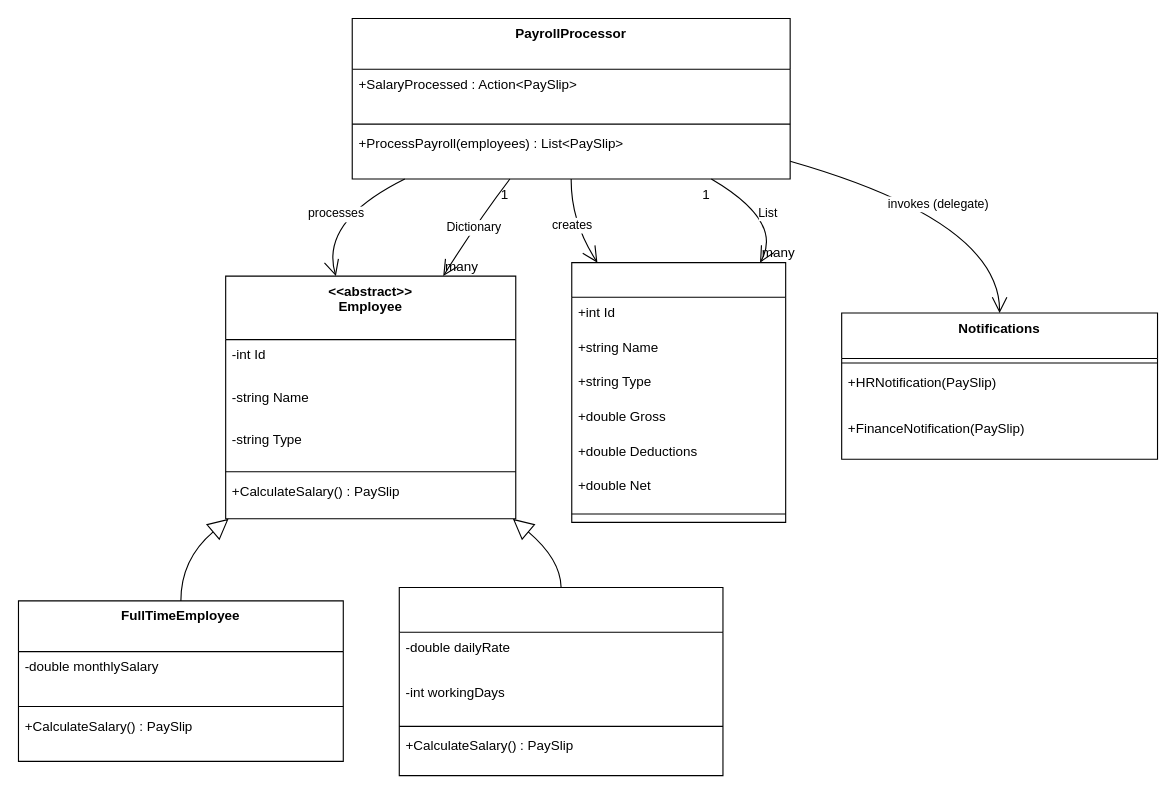
The diagram is 1176 pixels wide and 794 high, and some of its shapes have lost their labels. Each missing label, with the box of its shape:
ContractEmployee: (398, 586, 723, 776)
PaySlip: (571, 262, 786, 522)
